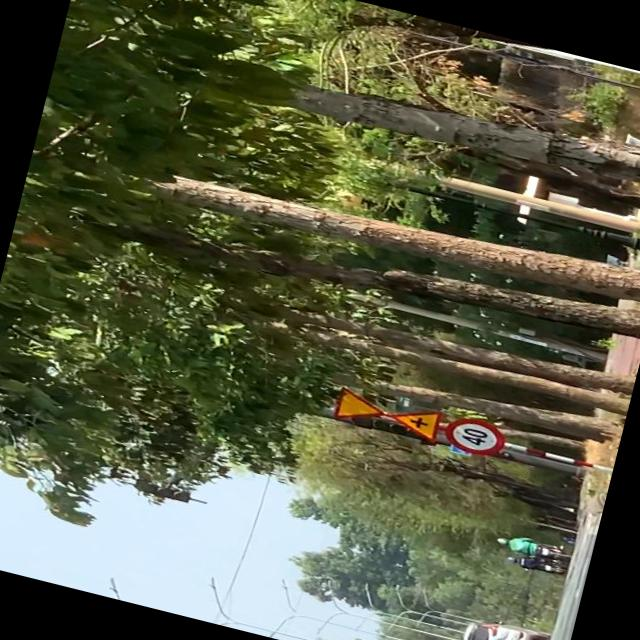P-127: (441, 412, 508, 461)
W-205a: (388, 403, 443, 443)
W-208: (328, 384, 386, 428)
